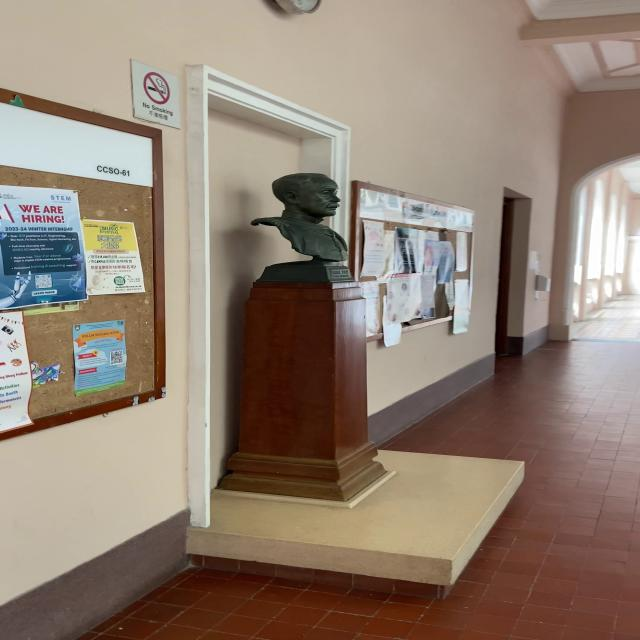statues: (241, 166, 375, 287)
